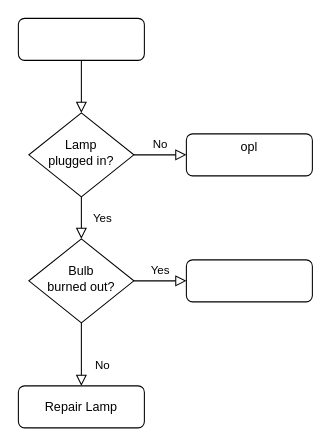
This 331x446 diagram has some shape labels left out. Each missing label, with the centre of its shape:
"Replace Bulb" goes at [248,280].
"test" goes at [80,38].
